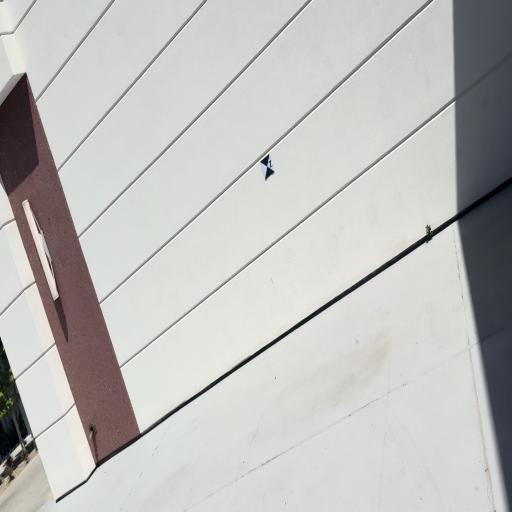target7: (260, 152, 276, 180)
